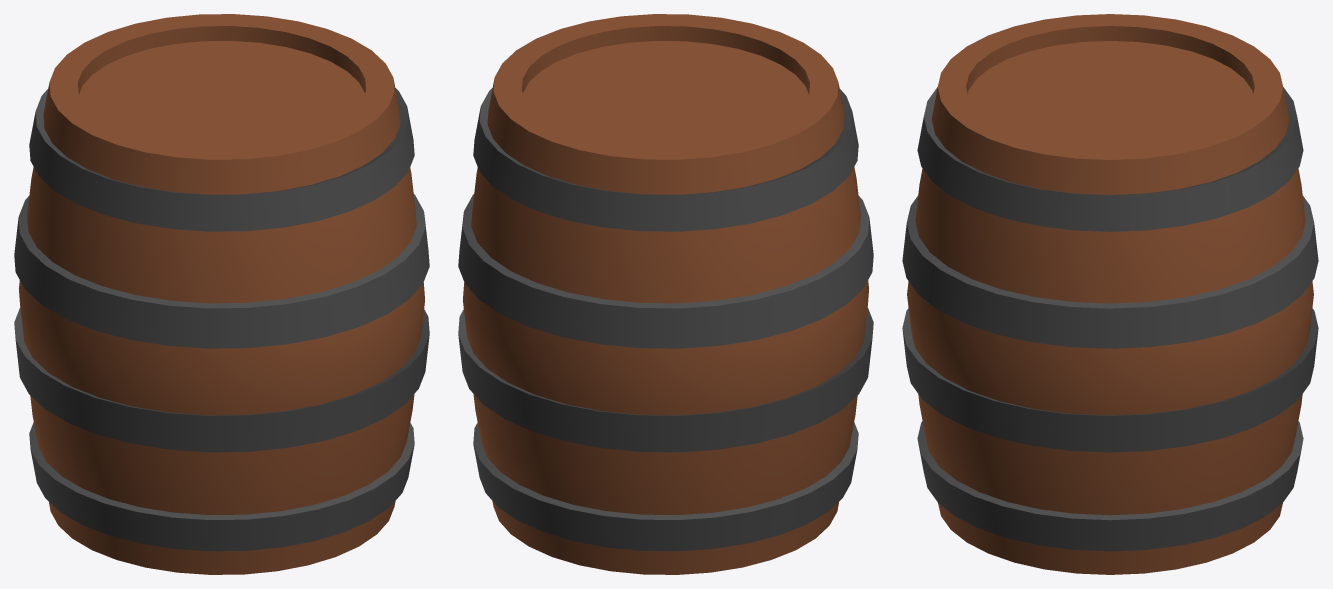
The model's file is Barrel.fbx.
3 views of the same model, side by side, from view 1: azimuth 30°, elevation 25°; view 2: azimuth 150°, elevation 25°; view 3: azimuth 270°, elevation 25° (orthographic).
Visible parts, largest first — view 1: Cylinder; view 2: Cylinder; view 3: Cylinder.
Boxes of the visible parts, x1=… form: Cylinder: x1=14, y1=14, x2=429, y2=574; Cylinder: x1=458, y1=14, x2=873, y2=574; Cylinder: x1=902, y1=14, x2=1318, y2=574.
Size of the model in its own units: 2.05 by 2.25 by 2.05.
